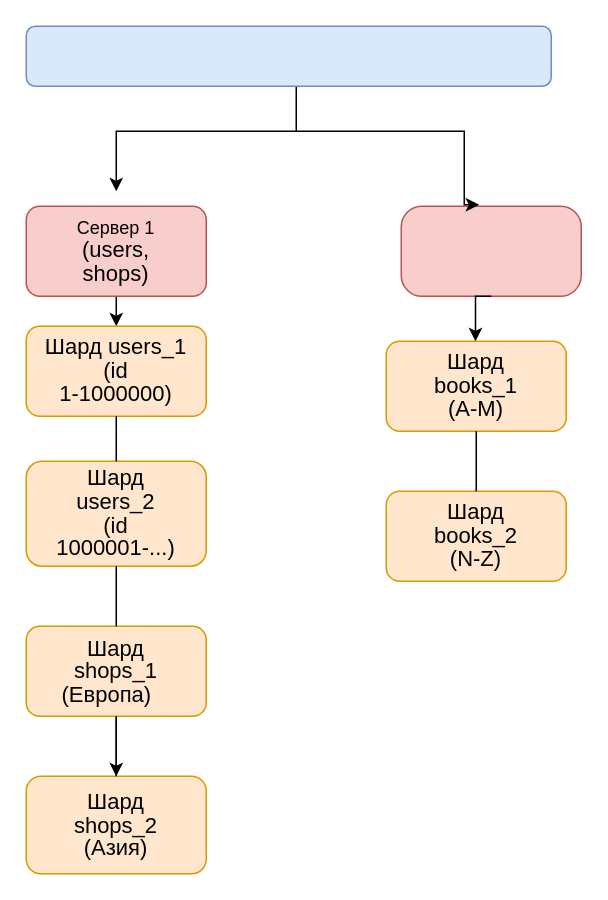
Image size: 608x900. Some labels were removed from this diagram. The box of each missing label's shape, as (x1, y1, x2, y2) in pixels:
Приложение: (25, 25, 551, 86)
Сервер 2 (books): (400, 205, 581, 296)
